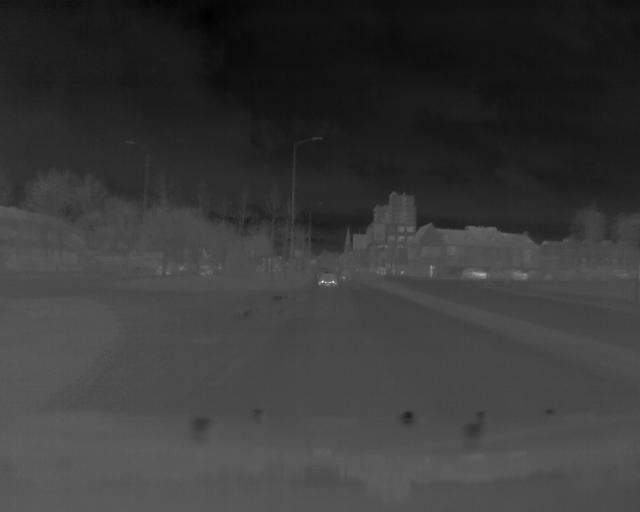car: (316, 270, 341, 290)
